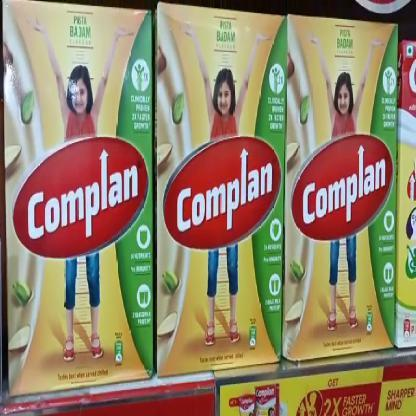Complan Pista Badam: (6, 0, 154, 377), (155, 0, 284, 364), (283, 19, 396, 358)
